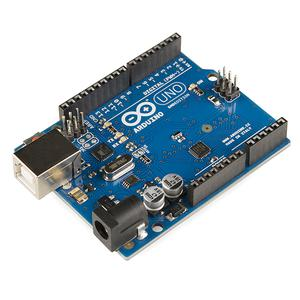duino: (15, 27, 292, 261)
